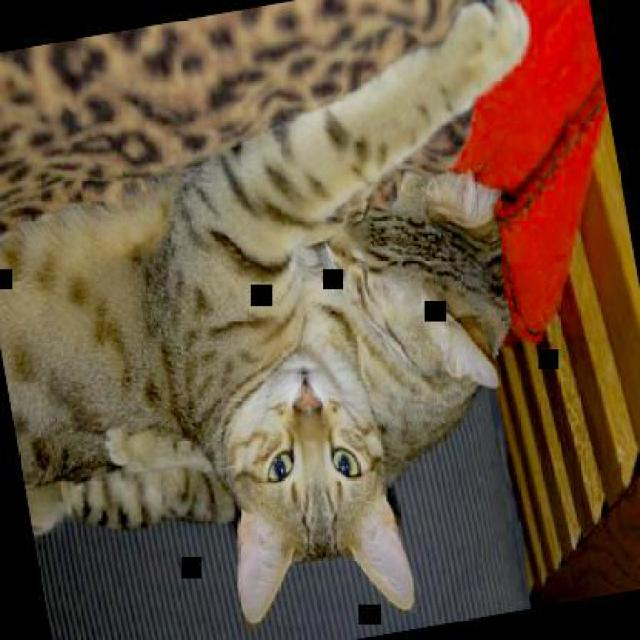cat: (0, 0, 624, 638), (0, 154, 543, 560)
